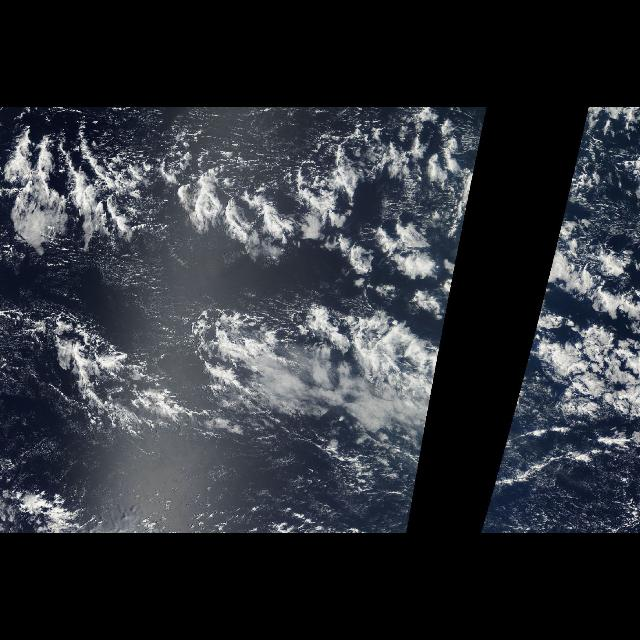Fish: (3, 279, 209, 457)
